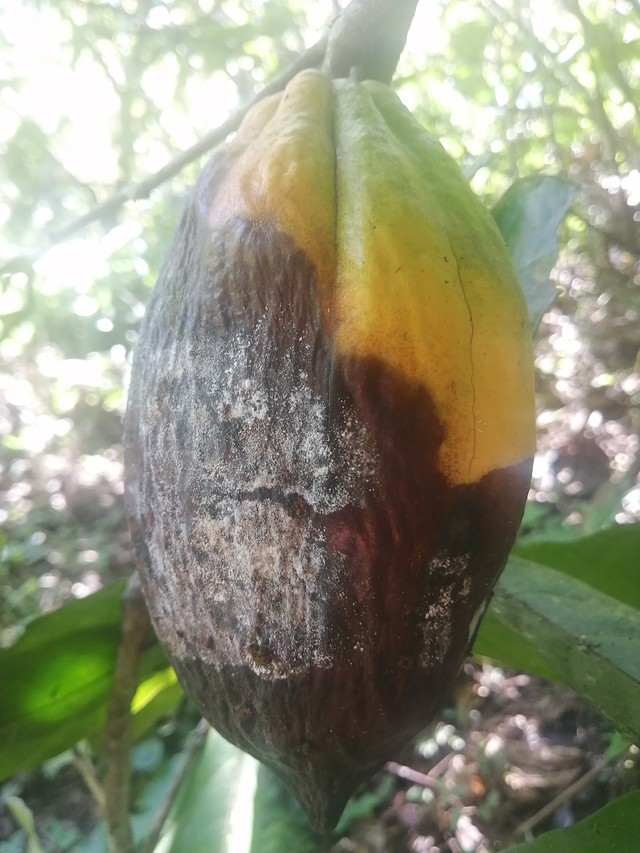moniliophthora roreri: (100, 58, 552, 849)
